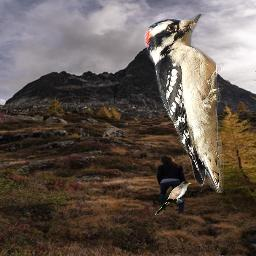Cuckoo: (155, 181, 192, 215)
Woodpecker: (144, 14, 224, 193)
